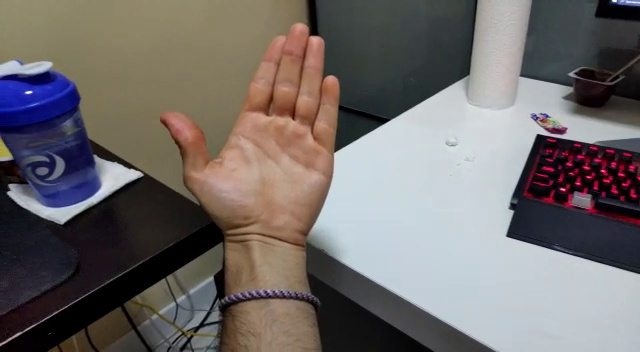Palm: (157, 22, 349, 265)
